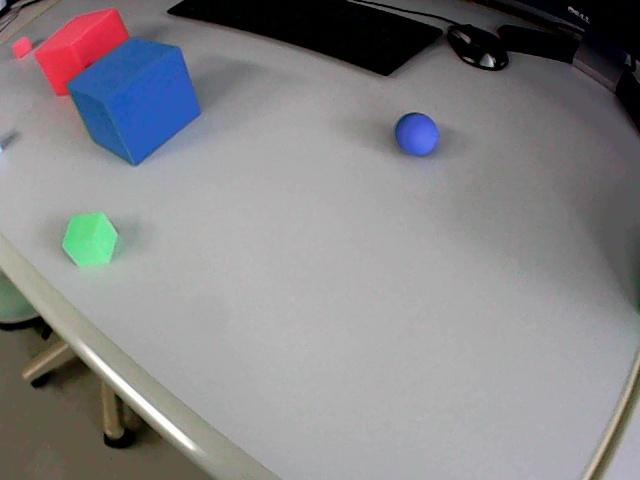blue_block: (67, 38, 199, 164)
red_block: (34, 9, 128, 94), (11, 36, 31, 57)
